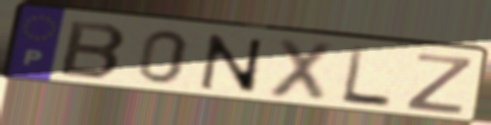0: (136, 28, 192, 88)
B: (56, 18, 131, 82)
L: (338, 44, 395, 110)
N: (198, 31, 266, 96)
X: (264, 36, 339, 106)
Z: (401, 51, 477, 117)
